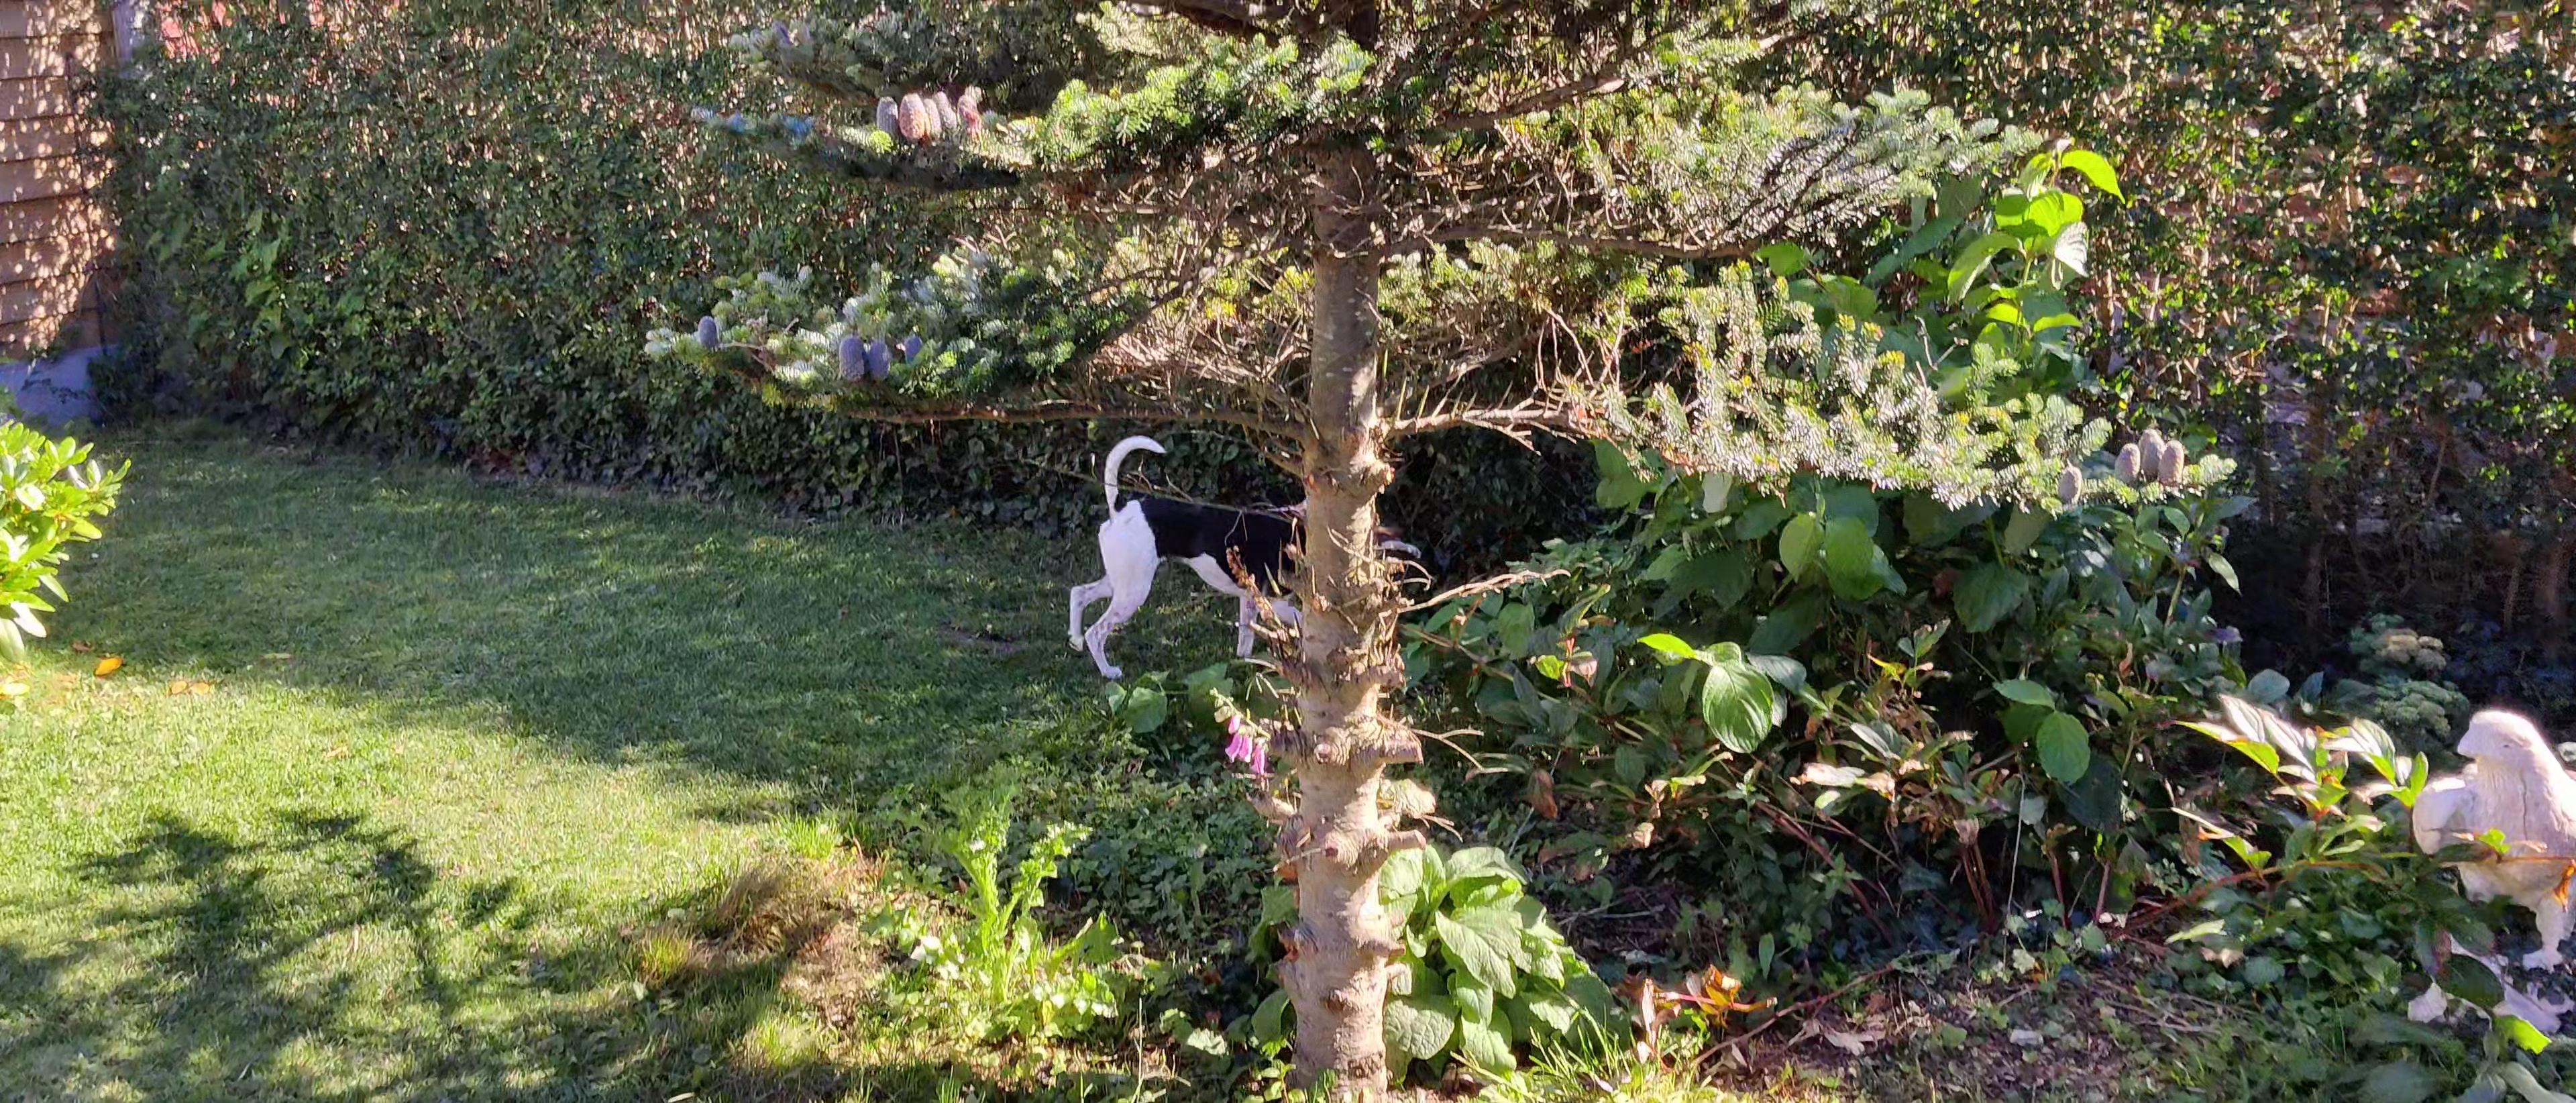Dog: (1063, 431, 1405, 681)
